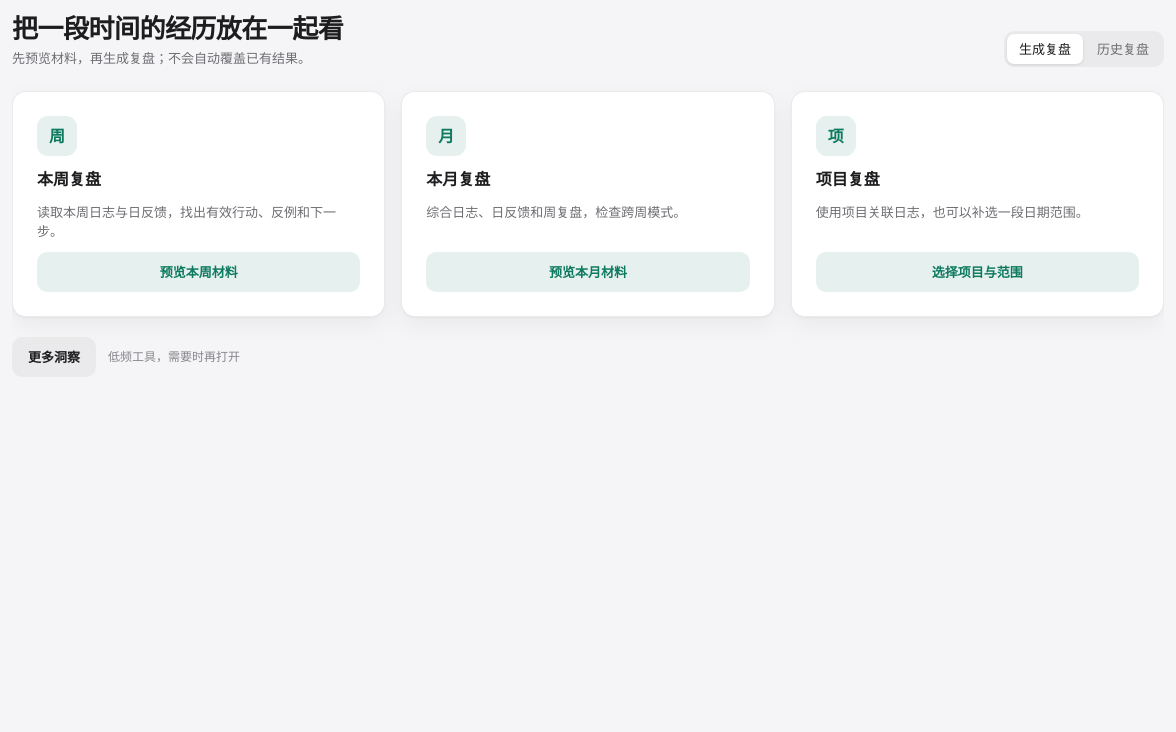
it: ReviewsPage › starts from three prototype review cards and uses a sensible weekly range
The image size is (1176, 732).
Check: the heading "本周复盘" is shown, box [37,168,101,191]
Check: the heading "本月复盘" is shown, box [426,168,490,191]
Click the button "预览本周材料": point(199, 272) [37,252,360,292]
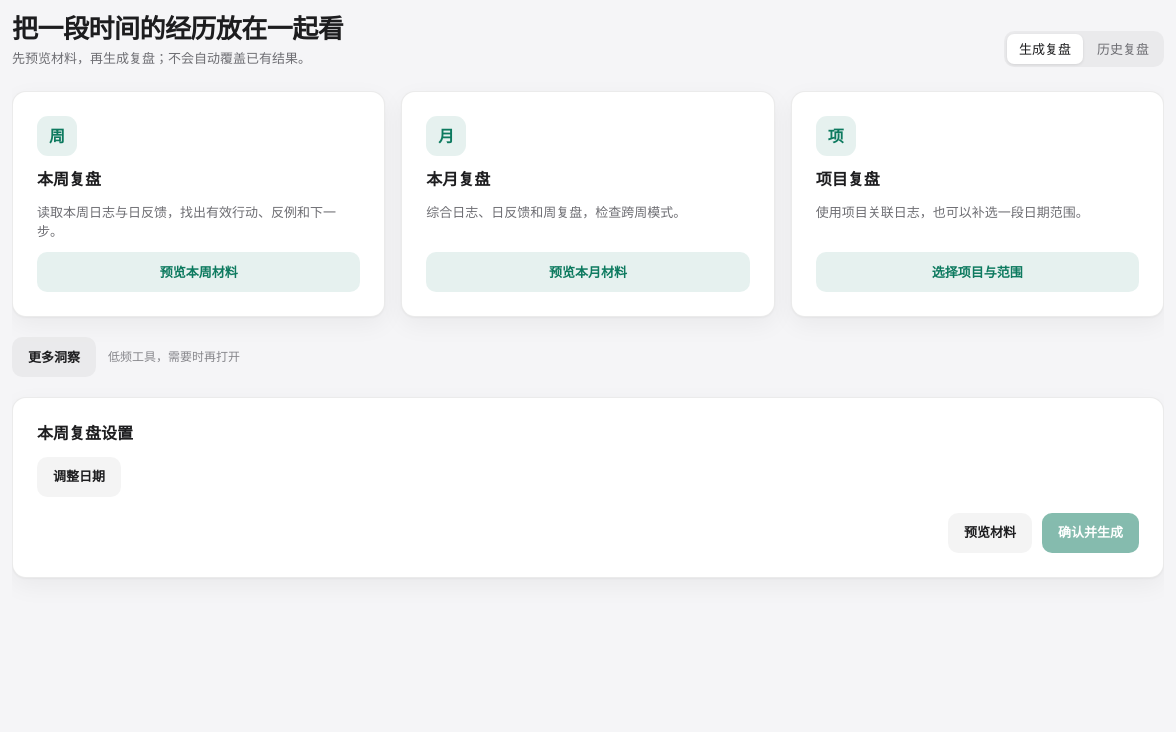
Check: the field labelled "开始日期" is not shown
Click the button "调整日期": point(79, 477) [37,457,121,497]
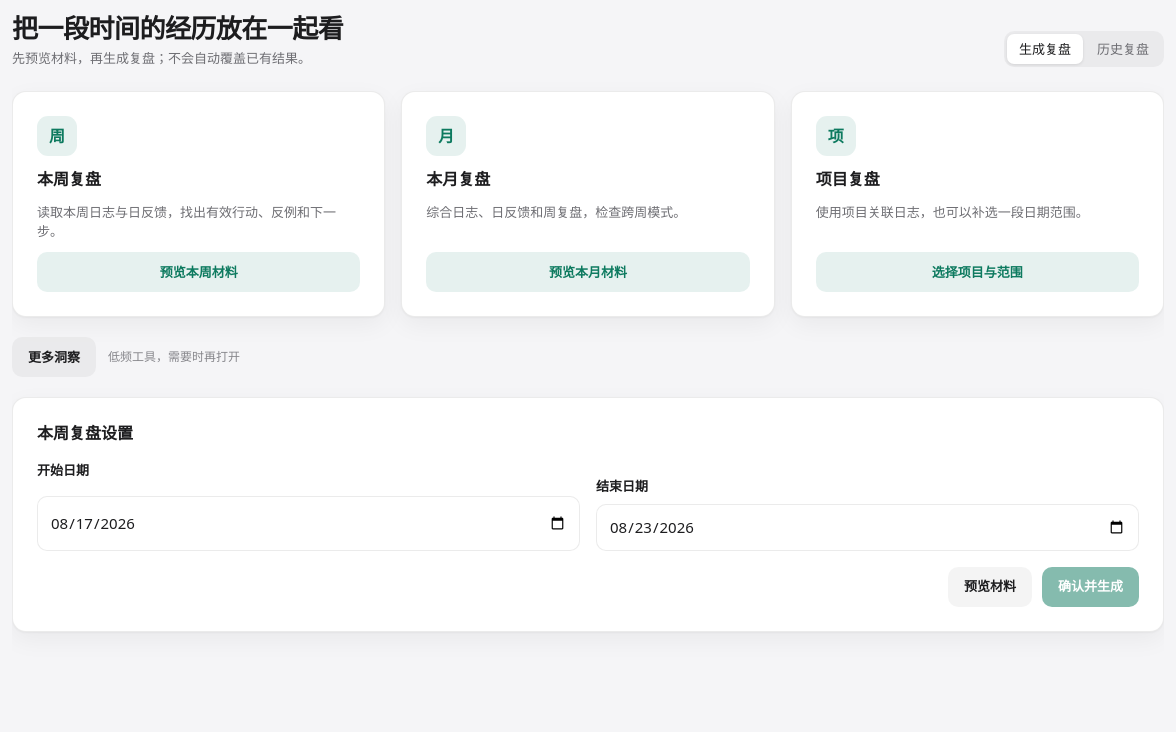
Check: the date field labelled "开始日期" holds "2026-08-17", box [37,496,580,551]
